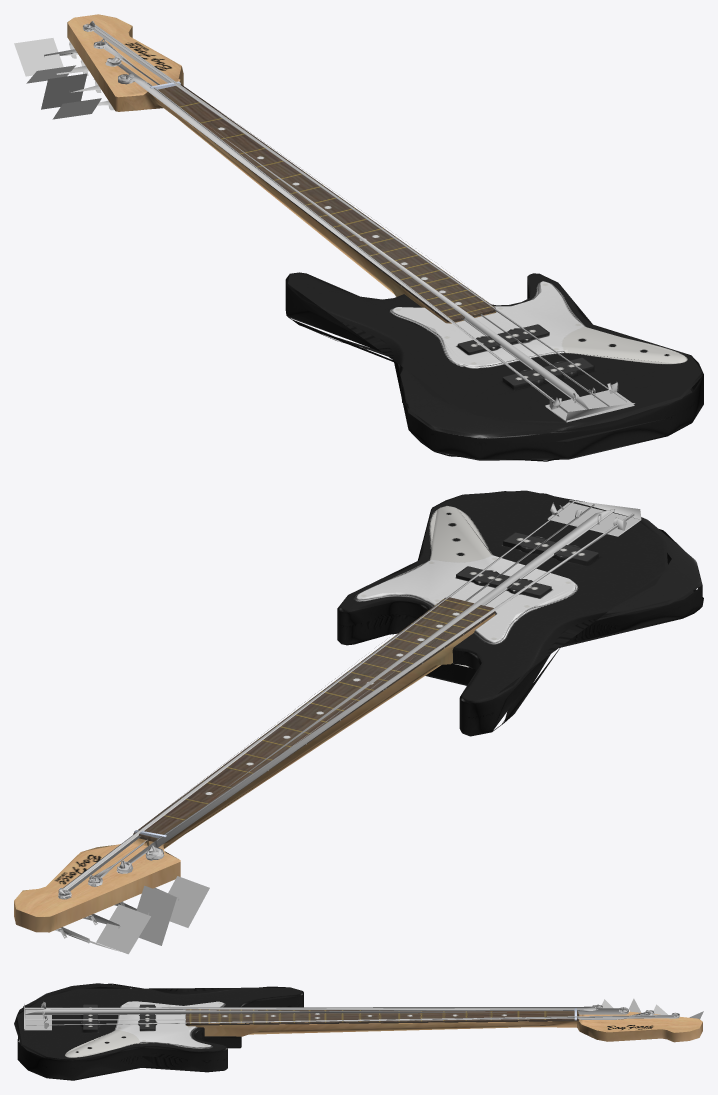
File: bass.gltf
The picture shows the model from 3 angles, top to bottom: view 1: azimuth 30°, elevation 25°; view 2: azimuth 150°, elevation 25°; view 3: azimuth 270°, elevation 25°; orthographic projection. The views are drawn at different scales.
Parts seen in each view (by area): view 1: Bass_LP, Line015, Box021; view 2: Bass_LP, Line015, Box021; view 3: Bass_LP, Line015, Box021.
Part boxes in pixels (box(x1,y1,x2,y2)): Bass_LP: box(67, 14, 703, 461); Line015: box(82, 21, 626, 413); Box021: box(14, 38, 634, 422); Bass_LP: box(14, 490, 703, 932); Line015: box(58, 500, 634, 899); Box021: box(55, 500, 641, 954); Bass_LP: box(14, 983, 702, 1080); Line015: box(25, 1004, 679, 1025); Box021: box(24, 998, 703, 1030).
Bounding box in the file's own units: 0.3945 × 0.0787 × 1.42.
Materials: 3 (1 with a texture image).
